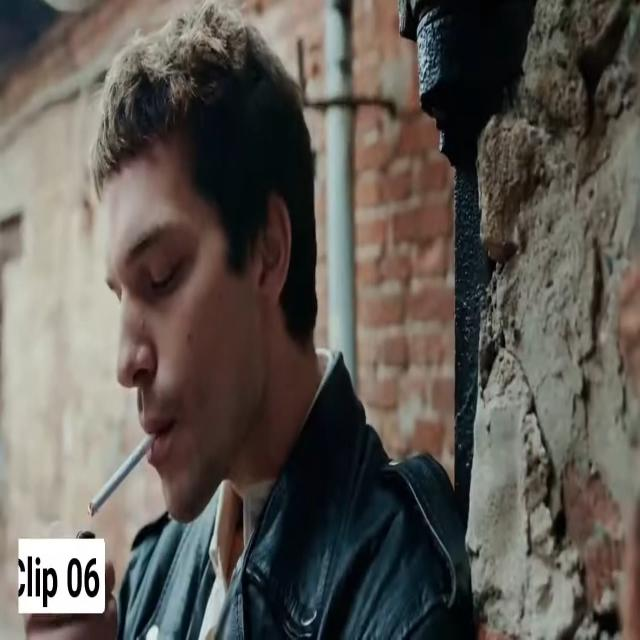Курение: (80, 427, 161, 527)
